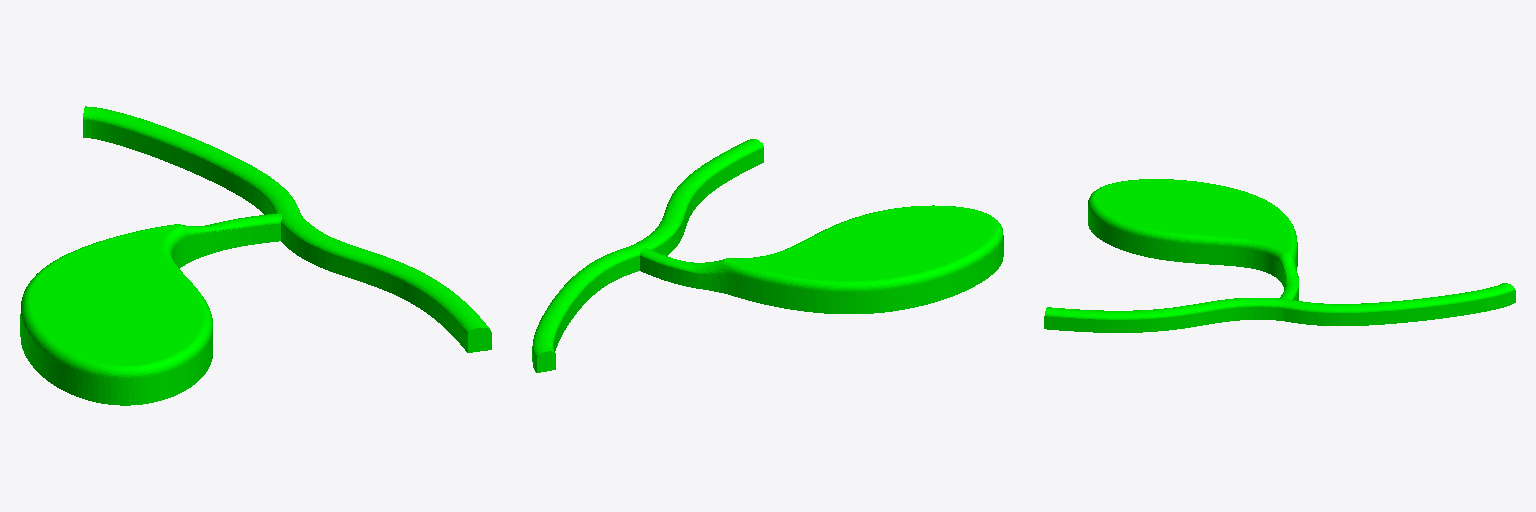
URDF robot description (gallbladder):
<robot name="gallbladder">
	<material name="red">
		<color rgba="1 0 0 1"/>
	</material>
	<material name="green">
		<color rgba="0 1 0 1"/>
	</material>
  <link name="gallbladder_link">
    <visual>
      <origin xyz="0 0 0" rpy="0 0 0"/>
      <geometry>
        <mesh filename="meshes/gallbladder.stl" scale="0.005 0.005 0.005"/>
      </geometry>
      <material name="green"/>
    </visual>
    <collision>
      <origin xyz="0 0 0" rpy="0 0 0"/>
      <geometry>
        <mesh filename="meshes/gallbladder.stl" scale="0.005 0.005 0.005"/>
      </geometry>
    </collision>
    <inertial>
      <mass value="0.1"/>
      <inertia ixx="0.001" ixy="0" ixz="0" iyy="0.001" iyz="0" izz="0.001"/>
    </inertial>
  </link>
</robot>

--- Render facts (derived) ---
3 views of the same robot in one strip: view 1: azimuth 30°, elevation 25°; view 2: azimuth 150°, elevation 25°; view 3: azimuth 270°, elevation 25° (orthographic).
Robot: gallbladder — 1 links, 0 joints (none); root link gallbladder_link; default pose: all joints at 0.
Visible links, largest first — view 1: gallbladder_link; view 2: gallbladder_link; view 3: gallbladder_link.
Boxes of the visible links, box(x1,y1,x2,y2) form: gallbladder_link: box(20, 106, 491, 405); gallbladder_link: box(532, 139, 1003, 372); gallbladder_link: box(1044, 179, 1515, 332).
Size in the robot's own frame: 1.1 by 1.67 by 0.1 metres.
1 mesh visuals loaded from 1 distinct referenced files (1 binary STL).